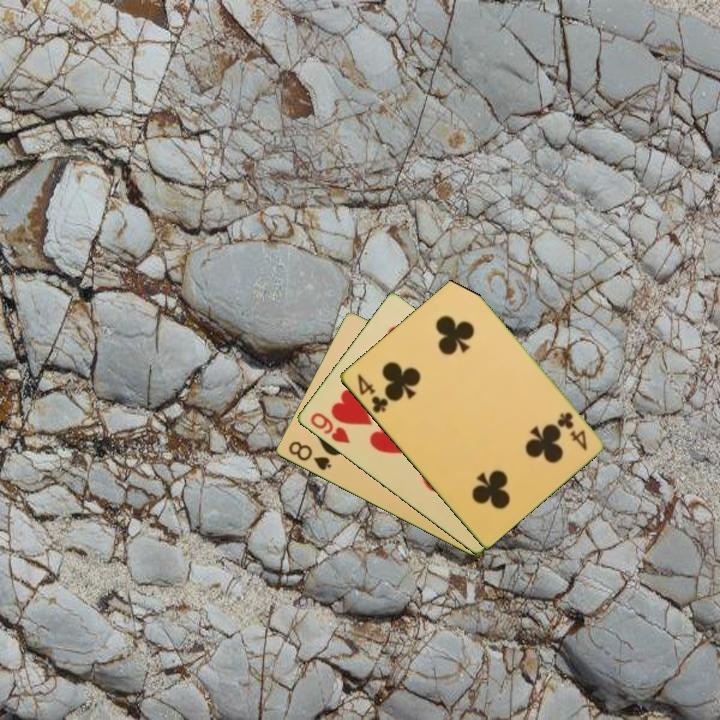4c: (353, 370, 391, 416), (553, 408, 590, 453)
8s: (284, 437, 334, 473)
9h: (306, 409, 353, 447)
